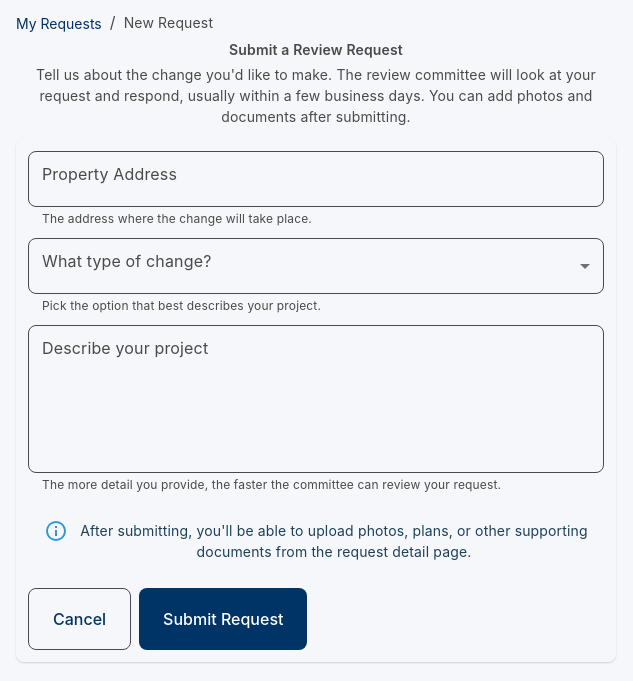
it: ArcSubmitPage › shows friendly validation errors on empty submit
The image size is (633, 681).
Click the button "Submit Request" at (223, 619), box [139, 588, 307, 650]
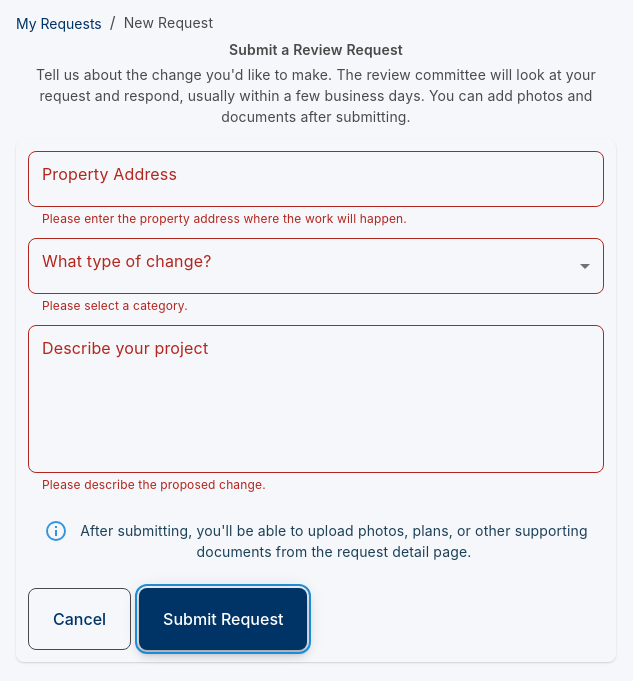
Expected: the text "Please enter the property address" is shown, [42, 211, 407, 226]
